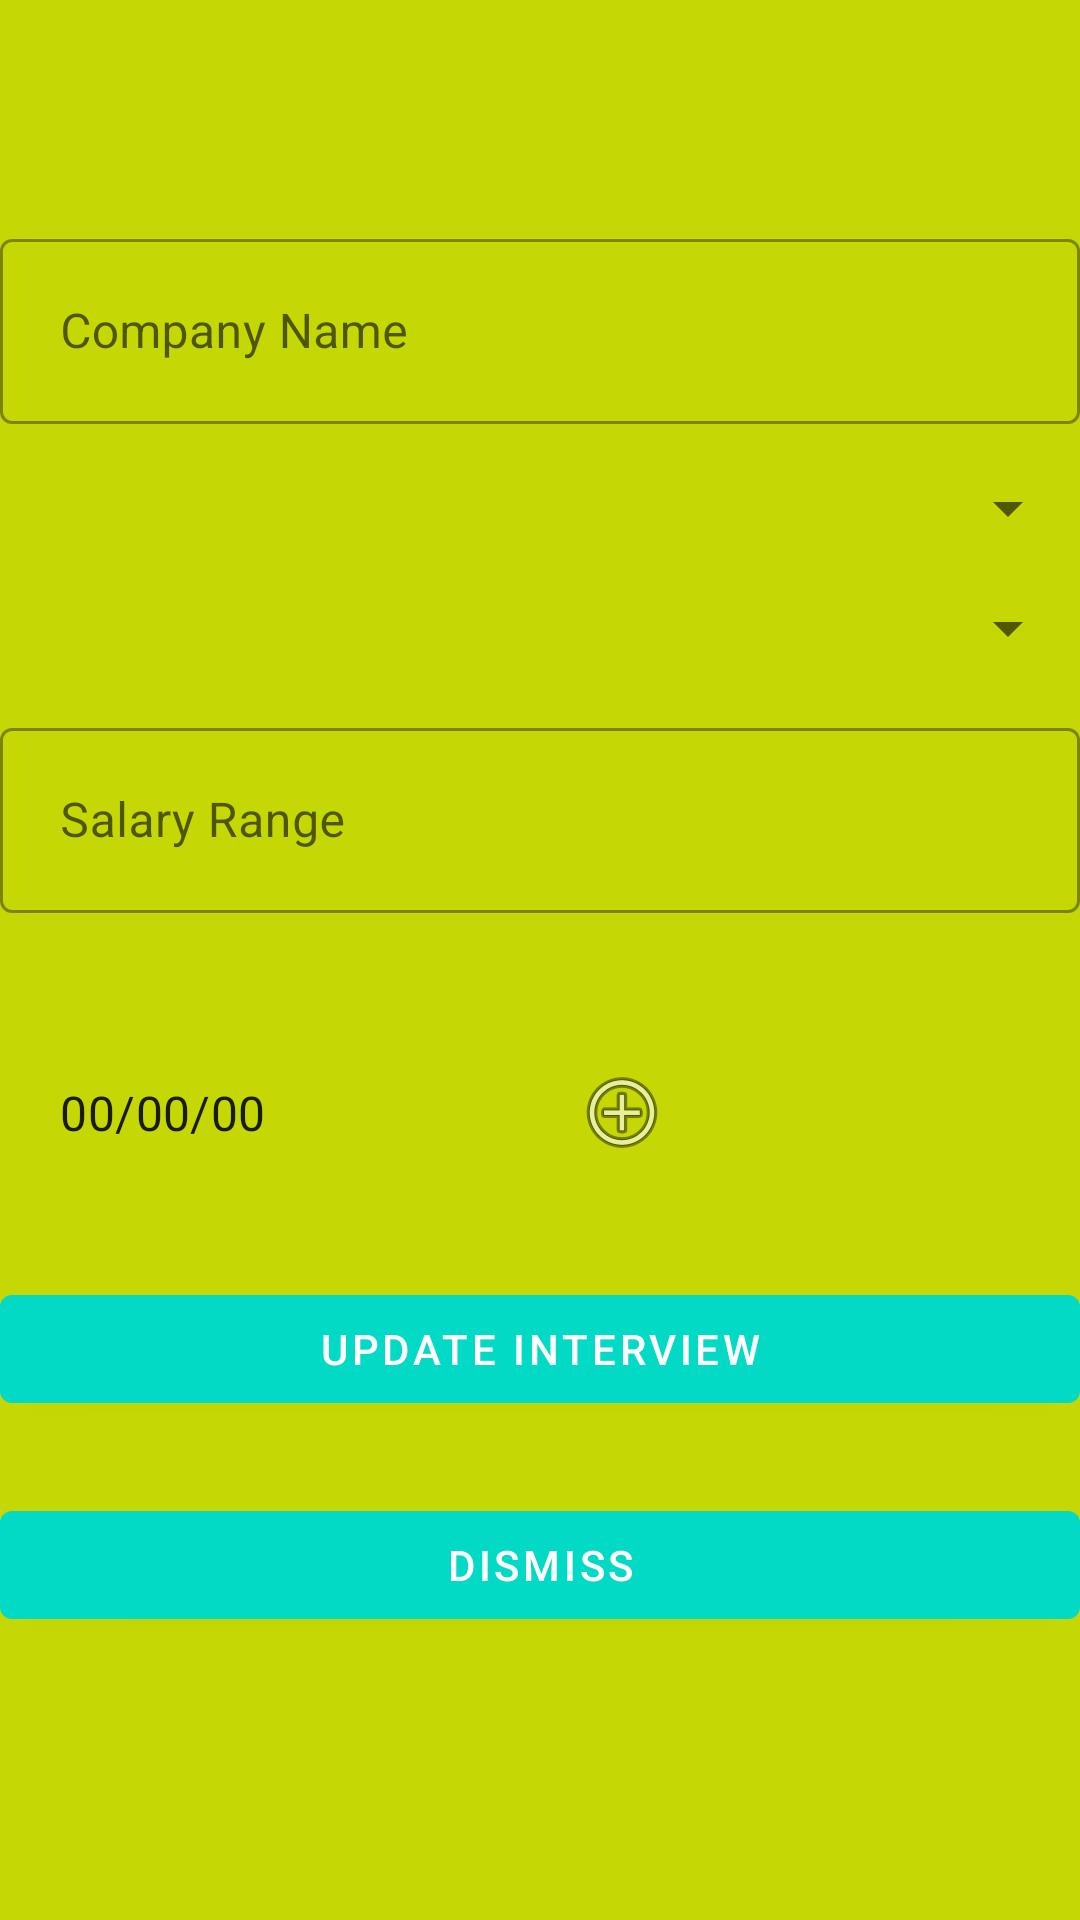

Locate icon controls on the screen. Image size 1080w x 1920h, boxes as {"left": x1, "top": y1, "right": x2, "bottom": y2}.
add: {"left": 586, "top": 1077, "right": 658, "bottom": 1148}
